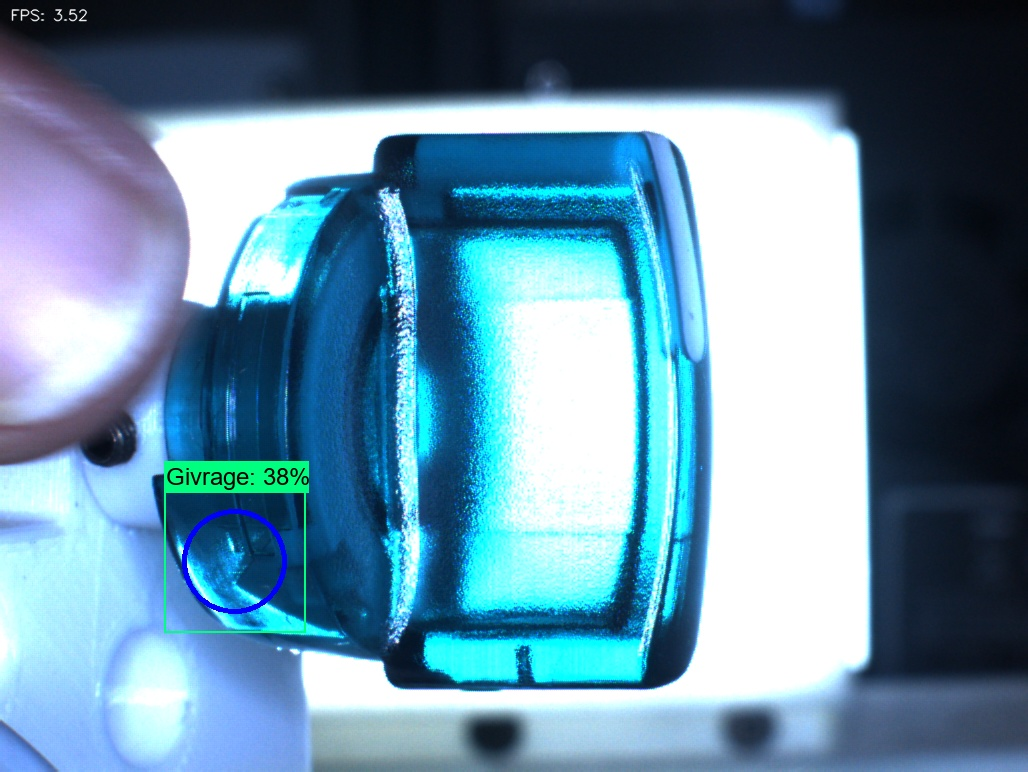Bulle: (490, 634, 572, 721)
